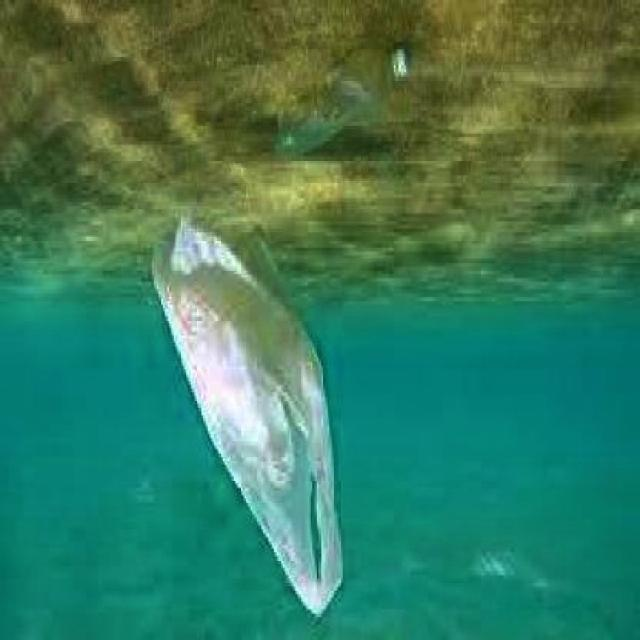pbag: (148, 213, 344, 621)
pbottle: (274, 42, 411, 164)
